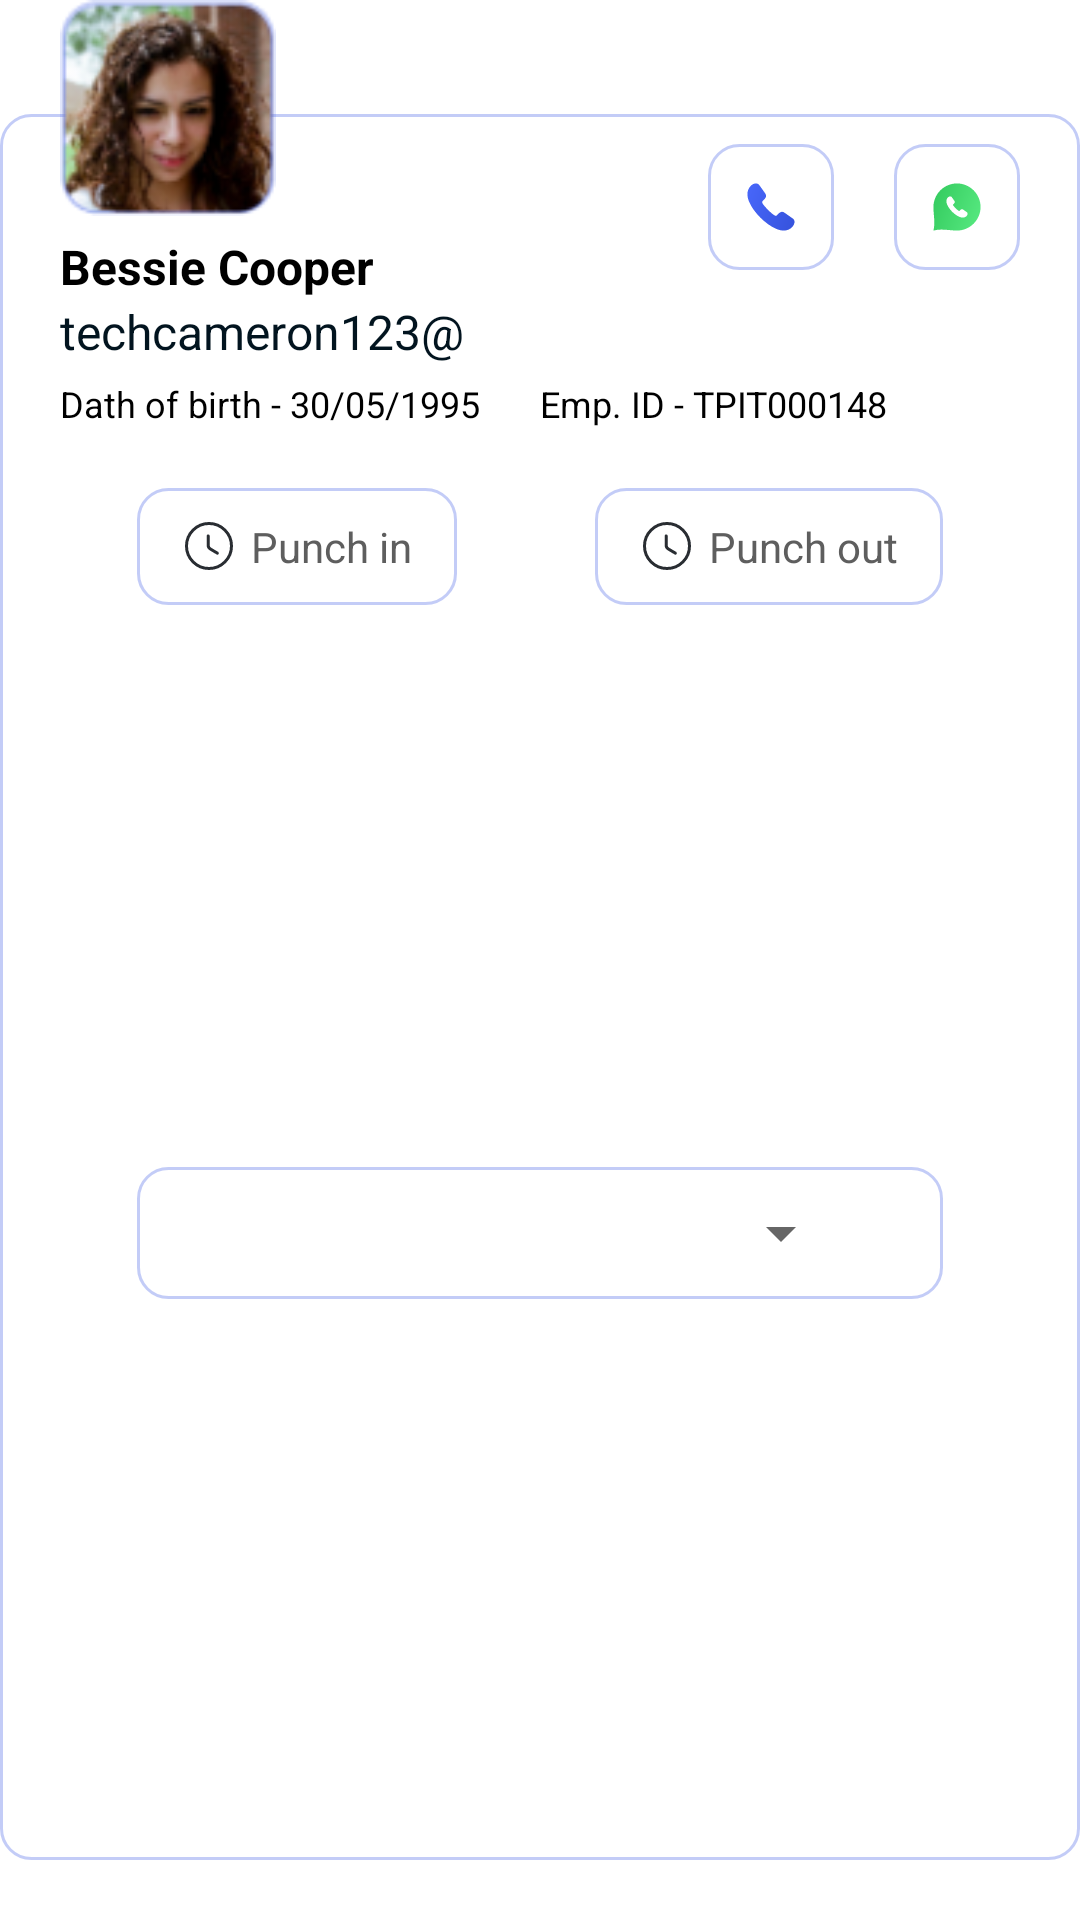

Point at icon controls on the screen. Image size 1080 × 1920, points as [x,y].
employee: [168,107]
phone call: [771,207]
